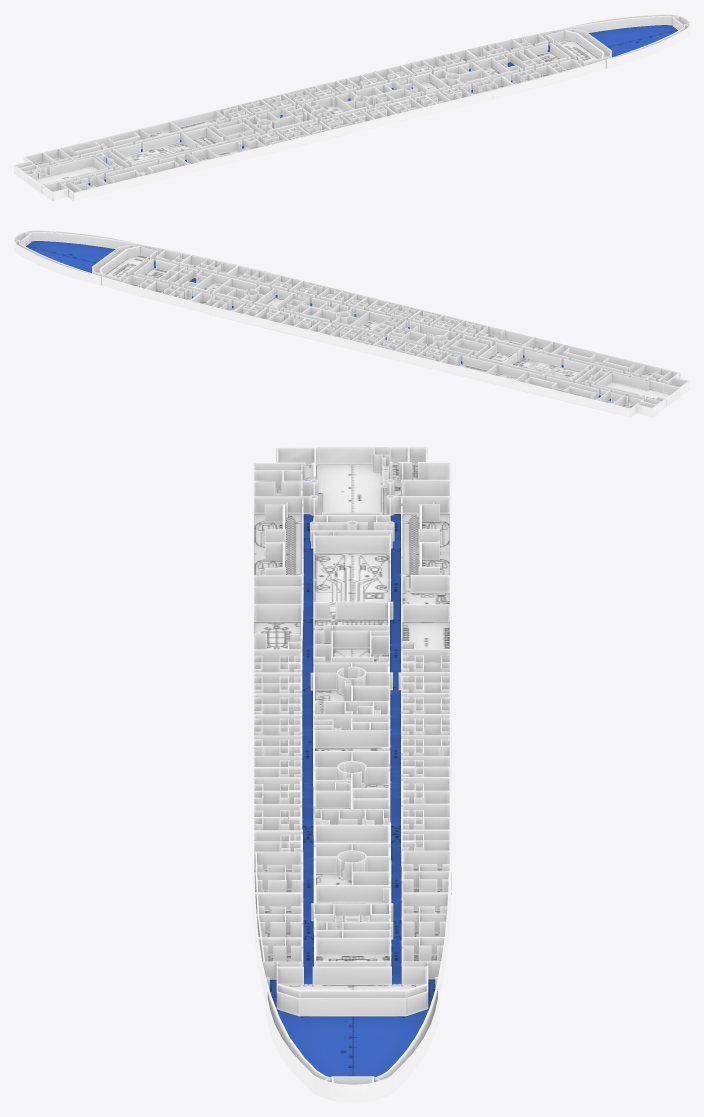
The model's file is xiaQiaoLouJiaBan.fbx.
The picture shows the model from 3 angles, top to bottom: view 1: azimuth 30°, elevation 25°; view 2: azimuth 150°, elevation 25°; view 3: azimuth 270°, elevation 25°; orthographic projection. The views are drawn at different scales.
Visible parts, largest first — view 1: polySurface11; view 2: polySurface11; view 3: polySurface11.
Boxes of the visible parts, x1,y1,x2,y2 form: polySurface11: (14,14,689,201); polySurface11: (14,230,689,417); polySurface11: (252,446,451,1102).
Bounding box in the file's own units: 25329 × 3346 × 323.
